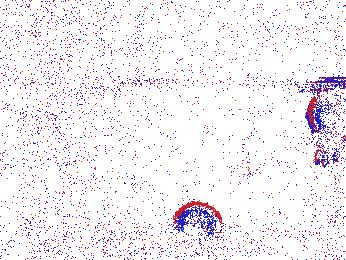flame jellyfish: (304, 87, 346, 168), (24, 213, 86, 260), (171, 203, 229, 245)
